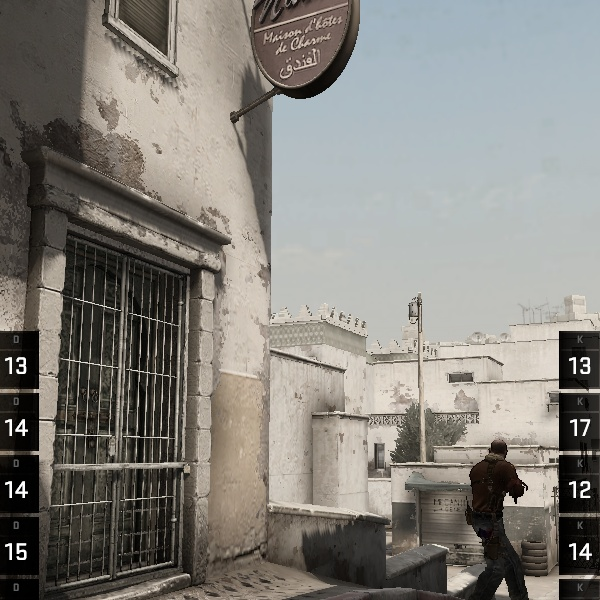t_body: (446, 436, 541, 600)
t_head: (481, 435, 515, 469)
